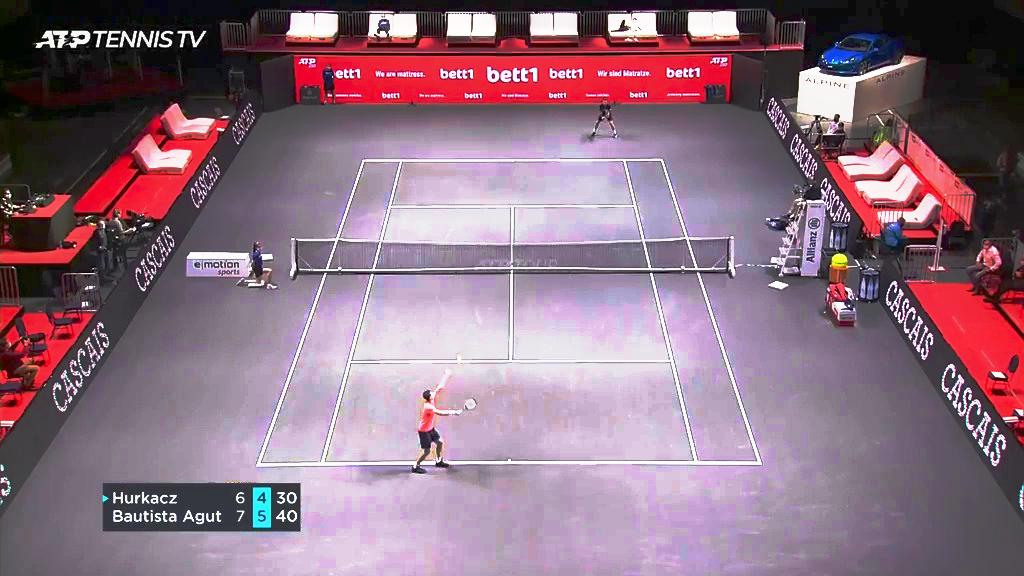tennis-court: (256, 160, 762, 466)
